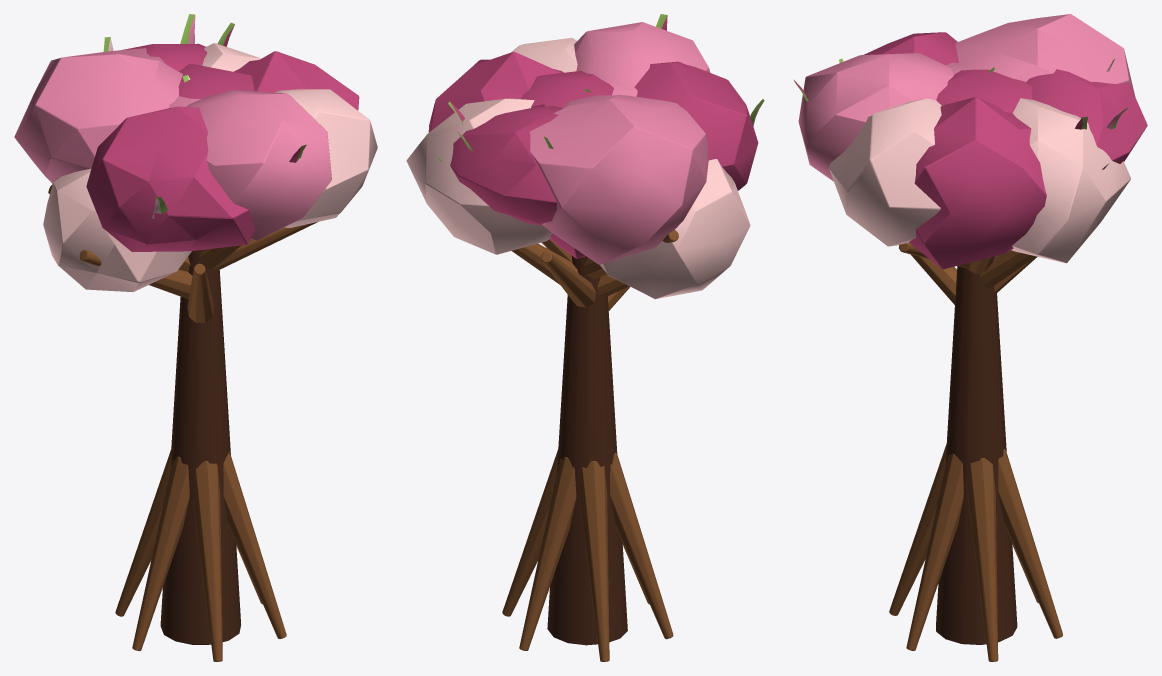
The model's file is tree_sakura_lod1.glb.
3 views of the same model, side by side, from view 1: azimuth 30°, elevation 25°; view 2: azimuth 150°, elevation 25°; view 3: azimuth 270°, elevation 25° (orthographic).
Parts seen in each view (by area): view 1: Flared sculpted trunk.002; view 2: Flared sculpted trunk.002; view 3: Flared sculpted trunk.002.
Boxes of the visible parts, x1=… form: Flared sculpted trunk.002: x1=14, y1=14, x2=377, y2=661; Flared sculpted trunk.002: x1=406, y1=14, x2=764, y2=661; Flared sculpted trunk.002: x1=793, y1=14, x2=1147, y2=661.
Bounding box in the file's own units: 3.02 × 5.51 × 3.08.
